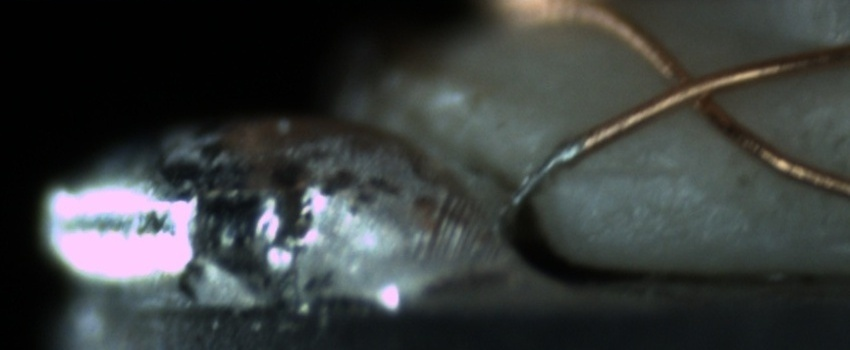CL: (647, 51, 743, 124)
DL: (568, 143, 693, 198)
TS: (505, 140, 585, 211)
TTCW: (507, 118, 616, 210)
